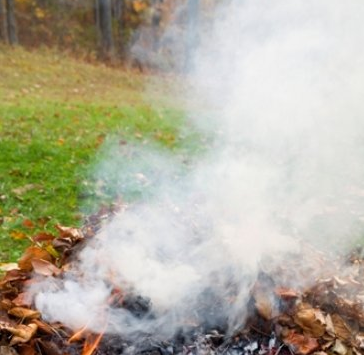smoke: (35, 1, 364, 340)
